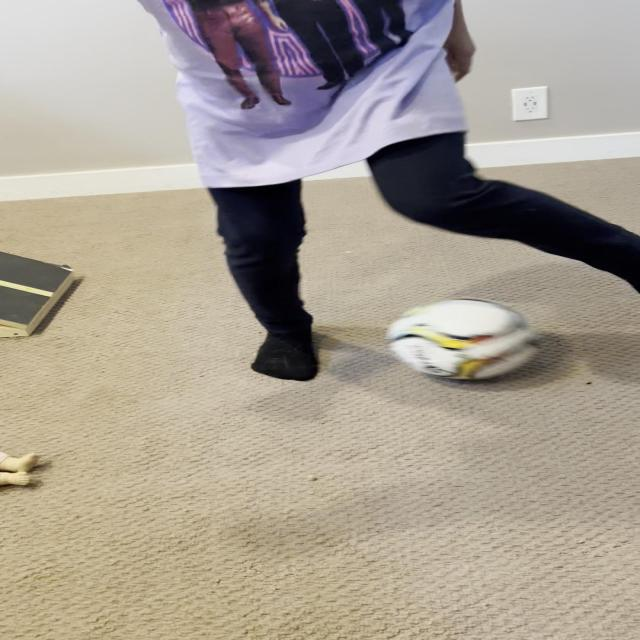Soccer Ball: (388, 296, 543, 379)
